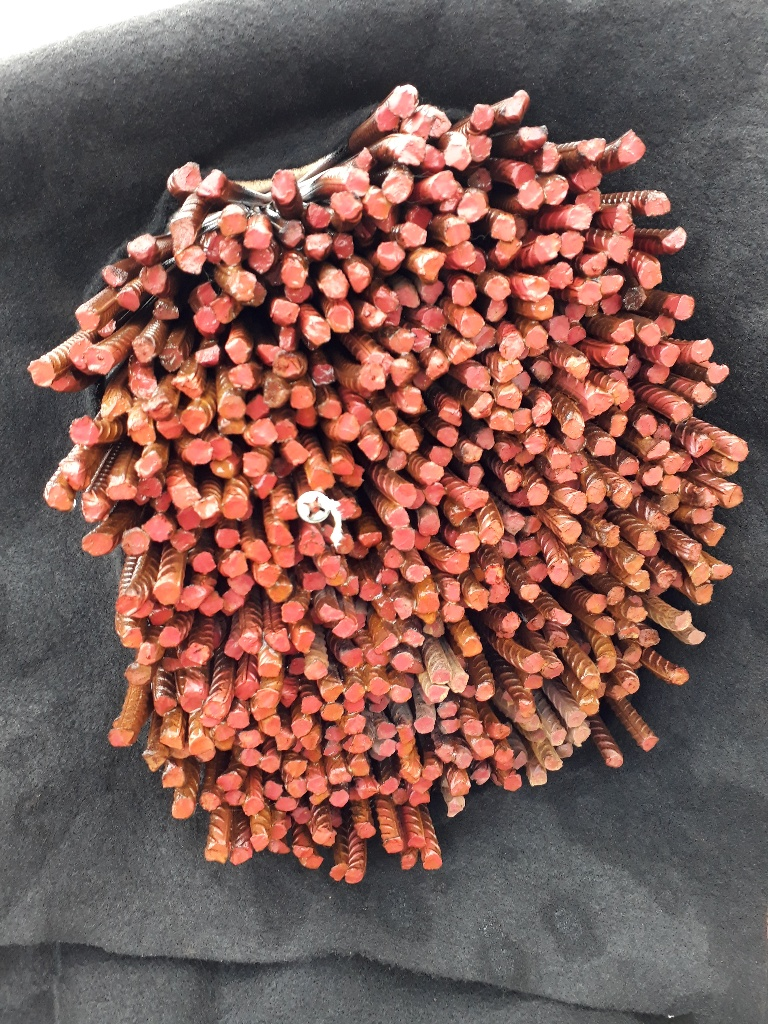dipstick: (402, 108, 437, 136), (331, 192, 363, 220), (378, 286, 400, 326), (620, 130, 646, 163), (384, 173, 411, 203), (140, 265, 167, 295), (272, 170, 295, 205), (364, 186, 389, 218), (129, 235, 155, 265), (69, 418, 100, 443), (246, 420, 277, 445), (446, 135, 469, 168), (174, 162, 200, 191), (121, 528, 150, 554), (171, 217, 195, 248), (536, 233, 560, 264), (399, 138, 426, 165), (135, 451, 163, 477), (464, 365, 492, 391), (62, 459, 84, 492), (392, 86, 417, 115), (278, 219, 303, 248), (306, 235, 333, 261), (221, 552, 248, 578), (460, 193, 485, 221), (177, 249, 205, 274), (328, 304, 353, 332), (544, 176, 568, 205), (173, 372, 202, 396), (186, 438, 212, 464), (145, 515, 171, 541), (306, 203, 333, 228), (377, 243, 404, 268), (547, 263, 574, 288), (322, 273, 348, 298), (645, 192, 671, 217), (86, 349, 112, 374), (199, 169, 223, 196), (446, 218, 470, 245), (228, 365, 255, 389), (82, 532, 110, 555), (507, 90, 529, 119), (28, 360, 53, 385), (46, 485, 71, 510), (561, 232, 585, 258), (130, 374, 156, 398), (391, 359, 415, 385), (84, 495, 108, 521), (300, 530, 324, 556), (520, 182, 543, 209), (231, 273, 254, 300), (281, 261, 304, 288), (586, 392, 613, 415), (201, 233, 221, 264), (422, 253, 444, 281), (573, 168, 602, 189), (272, 546, 301, 567), (541, 142, 561, 172), (492, 215, 516, 240), (346, 170, 369, 196), (272, 299, 298, 322), (102, 265, 128, 288), (219, 213, 246, 235), (609, 236, 631, 263), (470, 392, 492, 419), (520, 126, 548, 147), (349, 264, 369, 293), (431, 173, 455, 197), (183, 409, 207, 433), (471, 106, 494, 131), (468, 168, 493, 191), (453, 281, 476, 306), (390, 330, 413, 355), (243, 453, 268, 476), (284, 443, 309, 466), (267, 627, 290, 652), (401, 223, 427, 245), (273, 358, 303, 377), (578, 138, 605, 159), (496, 386, 523, 407), (639, 262, 662, 286), (611, 320, 635, 343), (307, 320, 330, 344), (396, 429, 419, 453), (69, 340, 88, 369), (100, 398, 129, 417), (133, 337, 155, 362), (394, 483, 416, 508), (254, 565, 279, 587), (267, 525, 294, 545), (345, 734, 372, 754), (222, 496, 245, 519), (568, 205, 590, 229), (579, 281, 601, 305), (486, 278, 510, 300), (194, 309, 218, 331), (227, 339, 249, 363), (220, 397, 244, 419), (246, 395, 268, 419), (321, 679, 343, 703), (130, 423, 155, 444), (265, 379, 286, 404), (137, 478, 162, 499), (171, 529, 196, 550), (245, 229, 271, 249), (453, 241, 473, 267), (360, 367, 386, 387), (309, 470, 335, 490), (339, 415, 359, 441), (222, 238, 241, 265), (574, 191, 601, 210), (145, 399, 172, 418), (251, 250, 273, 273), (664, 227, 686, 250), (500, 338, 523, 360), (398, 285, 420, 308), (160, 348, 183, 370), (481, 521, 503, 544), (391, 528, 414, 550), (387, 506, 410, 528), (248, 541, 271, 563), (532, 296, 553, 320), (691, 339, 712, 363), (459, 314, 483, 335), (362, 305, 383, 329), (214, 296, 232, 324), (157, 418, 181, 439), (499, 361, 523, 382), (419, 463, 443, 484), (183, 585, 204, 609), (496, 241, 521, 261), (401, 388, 421, 413), (126, 664, 151, 684), (450, 345, 477, 363), (497, 444, 524, 462), (526, 278, 548, 300), (118, 290, 140, 312), (201, 593, 223, 615), (512, 163, 535, 184), (583, 252, 606, 273), (77, 308, 98, 331), (193, 552, 216, 573), (156, 582, 179, 603), (446, 553, 469, 574), (471, 137, 491, 161), (195, 346, 219, 366), (107, 482, 137, 498), (490, 411, 514, 431), (180, 691, 204, 711), (257, 474, 276, 499), (438, 407, 463, 426), (464, 490, 489, 509), (217, 771, 242, 790), (676, 296, 694, 322), (152, 300, 178, 318), (455, 533, 481, 551), (601, 294, 622, 316), (567, 357, 589, 378), (525, 326, 546, 348), (424, 309, 445, 331), (177, 509, 199, 530), (562, 417, 583, 439), (504, 511, 525, 533), (560, 521, 581, 543), (376, 632, 398, 653), (432, 112, 452, 135), (360, 438, 380, 461), (377, 409, 397, 432), (636, 414, 656, 437), (593, 435, 616, 455), (334, 235, 353, 259), (550, 316, 569, 340), (234, 680, 258, 699), (238, 730, 262, 749), (426, 145, 444, 170), (612, 204, 630, 229), (173, 488, 198, 506), (513, 408, 531, 433), (227, 576, 252, 594), (377, 110, 398, 131), (291, 386, 312, 407), (532, 361, 553, 382), (468, 588, 489, 609), (334, 499, 355, 520), (640, 324, 660, 346), (423, 282, 443, 304), (312, 364, 334, 384), (212, 438, 232, 460), (436, 427, 458, 447), (706, 525, 726, 547), (282, 602, 304, 622), (241, 748, 263, 768), (409, 208, 432, 227), (656, 315, 675, 338), (430, 447, 453, 466), (274, 502, 297, 521), (340, 648, 363, 667), (216, 529, 240, 547), (108, 729, 132, 747), (691, 435, 711, 456), (223, 592, 243, 613), (173, 798, 193, 819), (200, 791, 221, 811), (626, 287, 645, 309), (601, 274, 623, 293), (476, 428, 495, 450), (586, 481, 605, 503), (210, 460, 233, 478), (359, 583, 382, 601), (256, 690, 279, 708), (320, 605, 344, 622), (566, 302, 586, 322), (276, 420, 296, 440), (387, 451, 407, 471), (420, 514, 440, 534), (122, 628, 142, 648), (596, 617, 616, 637), (607, 345, 628, 364), (723, 487, 744, 506), (691, 563, 710, 584), (319, 556, 340, 575), (116, 596, 137, 615), (137, 644, 156, 665), (155, 696, 176, 715), (198, 284, 216, 306), (413, 329, 431, 351), (648, 441, 670, 459), (406, 564, 428, 582), (333, 619, 355, 637), (196, 499, 219, 516), (269, 584, 292, 601), (303, 572, 326, 589), (320, 704, 343, 721), (401, 630, 424, 647), (416, 594, 439, 611), (52, 377, 76, 393), (279, 326, 295, 350), (534, 402, 550, 426), (660, 346, 679, 366), (525, 434, 545, 453), (729, 441, 749, 460), (660, 493, 679, 513), (625, 554, 645, 573), (528, 485, 548, 504), (426, 484, 445, 504), (301, 696, 321, 715), (474, 738, 493, 758), (488, 302, 506, 323), (528, 563, 549, 581), (163, 769, 184, 787), (462, 639, 483, 657), (614, 485, 631, 507), (550, 561, 567, 583), (519, 538, 541, 555), (227, 711, 249, 728), (293, 718, 312, 737), (346, 683, 365, 702), (524, 654, 543, 673), (587, 594, 606, 613), (693, 382, 711, 402), (672, 403, 692, 421), (286, 287, 310, 302), (259, 342, 279, 360), (320, 400, 340, 418), (346, 466, 364, 486), (610, 382, 628, 402), (674, 610, 692, 630), (568, 493, 586, 513), (159, 628, 179, 646), (384, 551, 404, 569), (365, 651, 389, 666), (357, 148, 374, 169), (665, 453, 682, 474), (306, 661, 327, 678), (395, 599, 412, 620), (285, 760, 306, 777), (205, 846, 226, 863), (448, 797, 465, 818), (707, 366, 729, 382), (712, 562, 734, 578), (259, 757, 281, 773), (313, 830, 335, 846), (218, 420, 245, 433), (550, 450, 568, 469), (644, 467, 663, 485), (633, 572, 651, 591), (499, 538, 517, 557), (490, 584, 508, 603), (190, 644, 208, 663), (145, 751, 163, 770), (287, 778, 306, 796), (502, 613, 521, 631), (569, 327, 586, 347), (476, 329, 496, 346), (205, 702, 225, 719), (392, 653, 412, 670), (424, 620, 444, 637), (295, 409, 316, 425), (603, 526, 619, 547), (298, 632, 314, 653), (342, 576, 358, 597), (253, 707, 277, 721), (232, 848, 253, 864), (355, 823, 376, 839), (569, 452, 587, 470), (401, 766, 419, 784), (428, 358, 445, 377), (154, 494, 171, 513), (355, 405, 372, 424), (685, 542, 702, 561), (696, 585, 713, 604), (580, 556, 599, 573), (445, 605, 464, 622), (432, 668, 451, 685), (423, 853, 442, 870), (464, 720, 483, 737), (579, 696, 598, 713), (476, 682, 493, 701), (328, 769, 351, 783), (649, 366, 669, 382), (333, 459, 353, 475), (463, 444, 483, 460), (504, 472, 520, 492), (520, 584, 540, 600), (429, 686, 449, 702), (392, 686, 412, 702), (346, 716, 366, 732), (626, 355, 641, 376), (564, 437, 585, 452), (360, 531, 381, 546), (380, 601, 395, 622), (150, 610, 172, 624), (377, 570, 399, 584), (258, 663, 280, 677), (190, 738, 212, 752), (224, 791, 246, 805), (663, 475, 680, 493), (263, 717, 280, 735), (504, 774, 521, 792), (641, 629, 659, 646), (611, 417, 627, 436), (650, 514, 669, 530), (227, 640, 243, 659), (370, 677, 389, 693), (439, 702, 458, 718), (244, 799, 263, 815), (293, 808, 312, 824), (549, 630, 568, 646), (544, 662, 563, 678), (619, 460, 639, 475), (692, 508, 712, 523), (468, 466, 483, 486), (445, 580, 460, 600), (162, 733, 182, 748), (377, 723, 397, 738), (472, 252, 485, 275), (450, 511, 471, 525), (275, 732, 292, 749), (525, 516, 541, 534), (337, 535, 353, 553), (452, 674, 468, 692), (265, 782, 283, 798), (308, 778, 326, 794), (331, 789, 347, 807), (351, 761, 369, 777), (385, 837, 403, 853), (451, 780, 469, 796), (574, 728, 590, 746), (518, 699, 536, 715), (240, 636, 259, 651), (439, 720, 459, 734), (421, 765, 441, 779), (566, 713, 586, 727), (214, 727, 235, 740), (514, 373, 530, 390), (485, 565, 501, 582), (288, 658, 304, 675), (416, 717, 433, 733), (437, 745, 453, 762), (624, 647, 641, 663), (372, 353, 390, 368), (638, 531, 653, 549), (137, 600, 152, 618), (268, 824, 286, 839), (608, 587, 623, 605), (687, 630, 706, 644), (277, 798, 296, 812), (410, 793, 429, 807), (519, 716, 538, 730), (619, 625, 638, 639), (370, 699, 390, 712), (326, 727, 346, 740), (523, 675, 543, 688), (658, 570, 674, 586), (379, 739, 395, 755), (531, 771, 547, 787), (673, 668, 689, 684), (350, 543, 367, 558), (398, 725, 413, 742), (302, 733, 319, 748), (457, 752, 472, 769), (472, 769, 489, 784), (583, 674, 600, 689), (599, 655, 614, 672), (680, 449, 691, 472), (324, 742, 342, 756), (253, 833, 267, 851), (268, 841, 289, 853), (360, 785, 378, 799), (628, 608, 646, 622), (721, 459, 737, 474), (216, 740, 236, 752), (293, 846, 313, 858), (331, 863, 346, 879), (346, 868, 362, 883), (381, 778, 397, 793), (557, 743, 572, 759), (529, 614, 544, 630), (624, 678, 639, 694), (552, 728, 566, 745), (304, 749, 322, 762), (412, 781, 433, 792), (408, 836, 427, 848), (641, 736, 656, 751), (705, 492, 719, 508), (517, 451, 534, 464), (394, 789, 407, 806), (528, 730, 545, 743), (555, 471, 577, 481), (327, 575, 345, 587), (545, 758, 563, 770), (415, 534, 429, 549), (282, 692, 296, 707), (495, 724, 510, 738), (310, 793, 329, 804), (397, 744, 413, 757), (496, 747, 512, 760), (554, 611, 570, 624), (514, 751, 526, 768), (607, 754, 622, 767), (631, 479, 643, 495), (355, 614, 366, 631), (306, 857, 324, 867), (401, 856, 416, 868), (172, 747, 188, 758), (195, 752, 214, 761), (613, 685, 626, 698), (647, 543, 661, 555), (498, 762, 512, 770)
